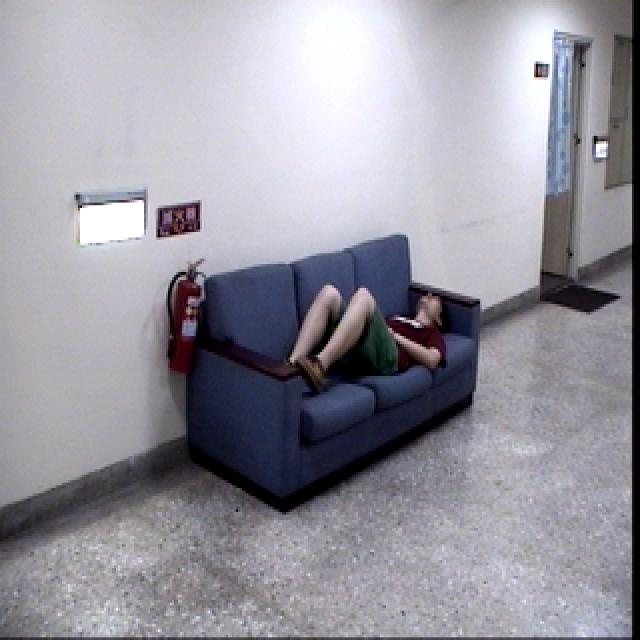lie: (271, 273, 452, 396)
